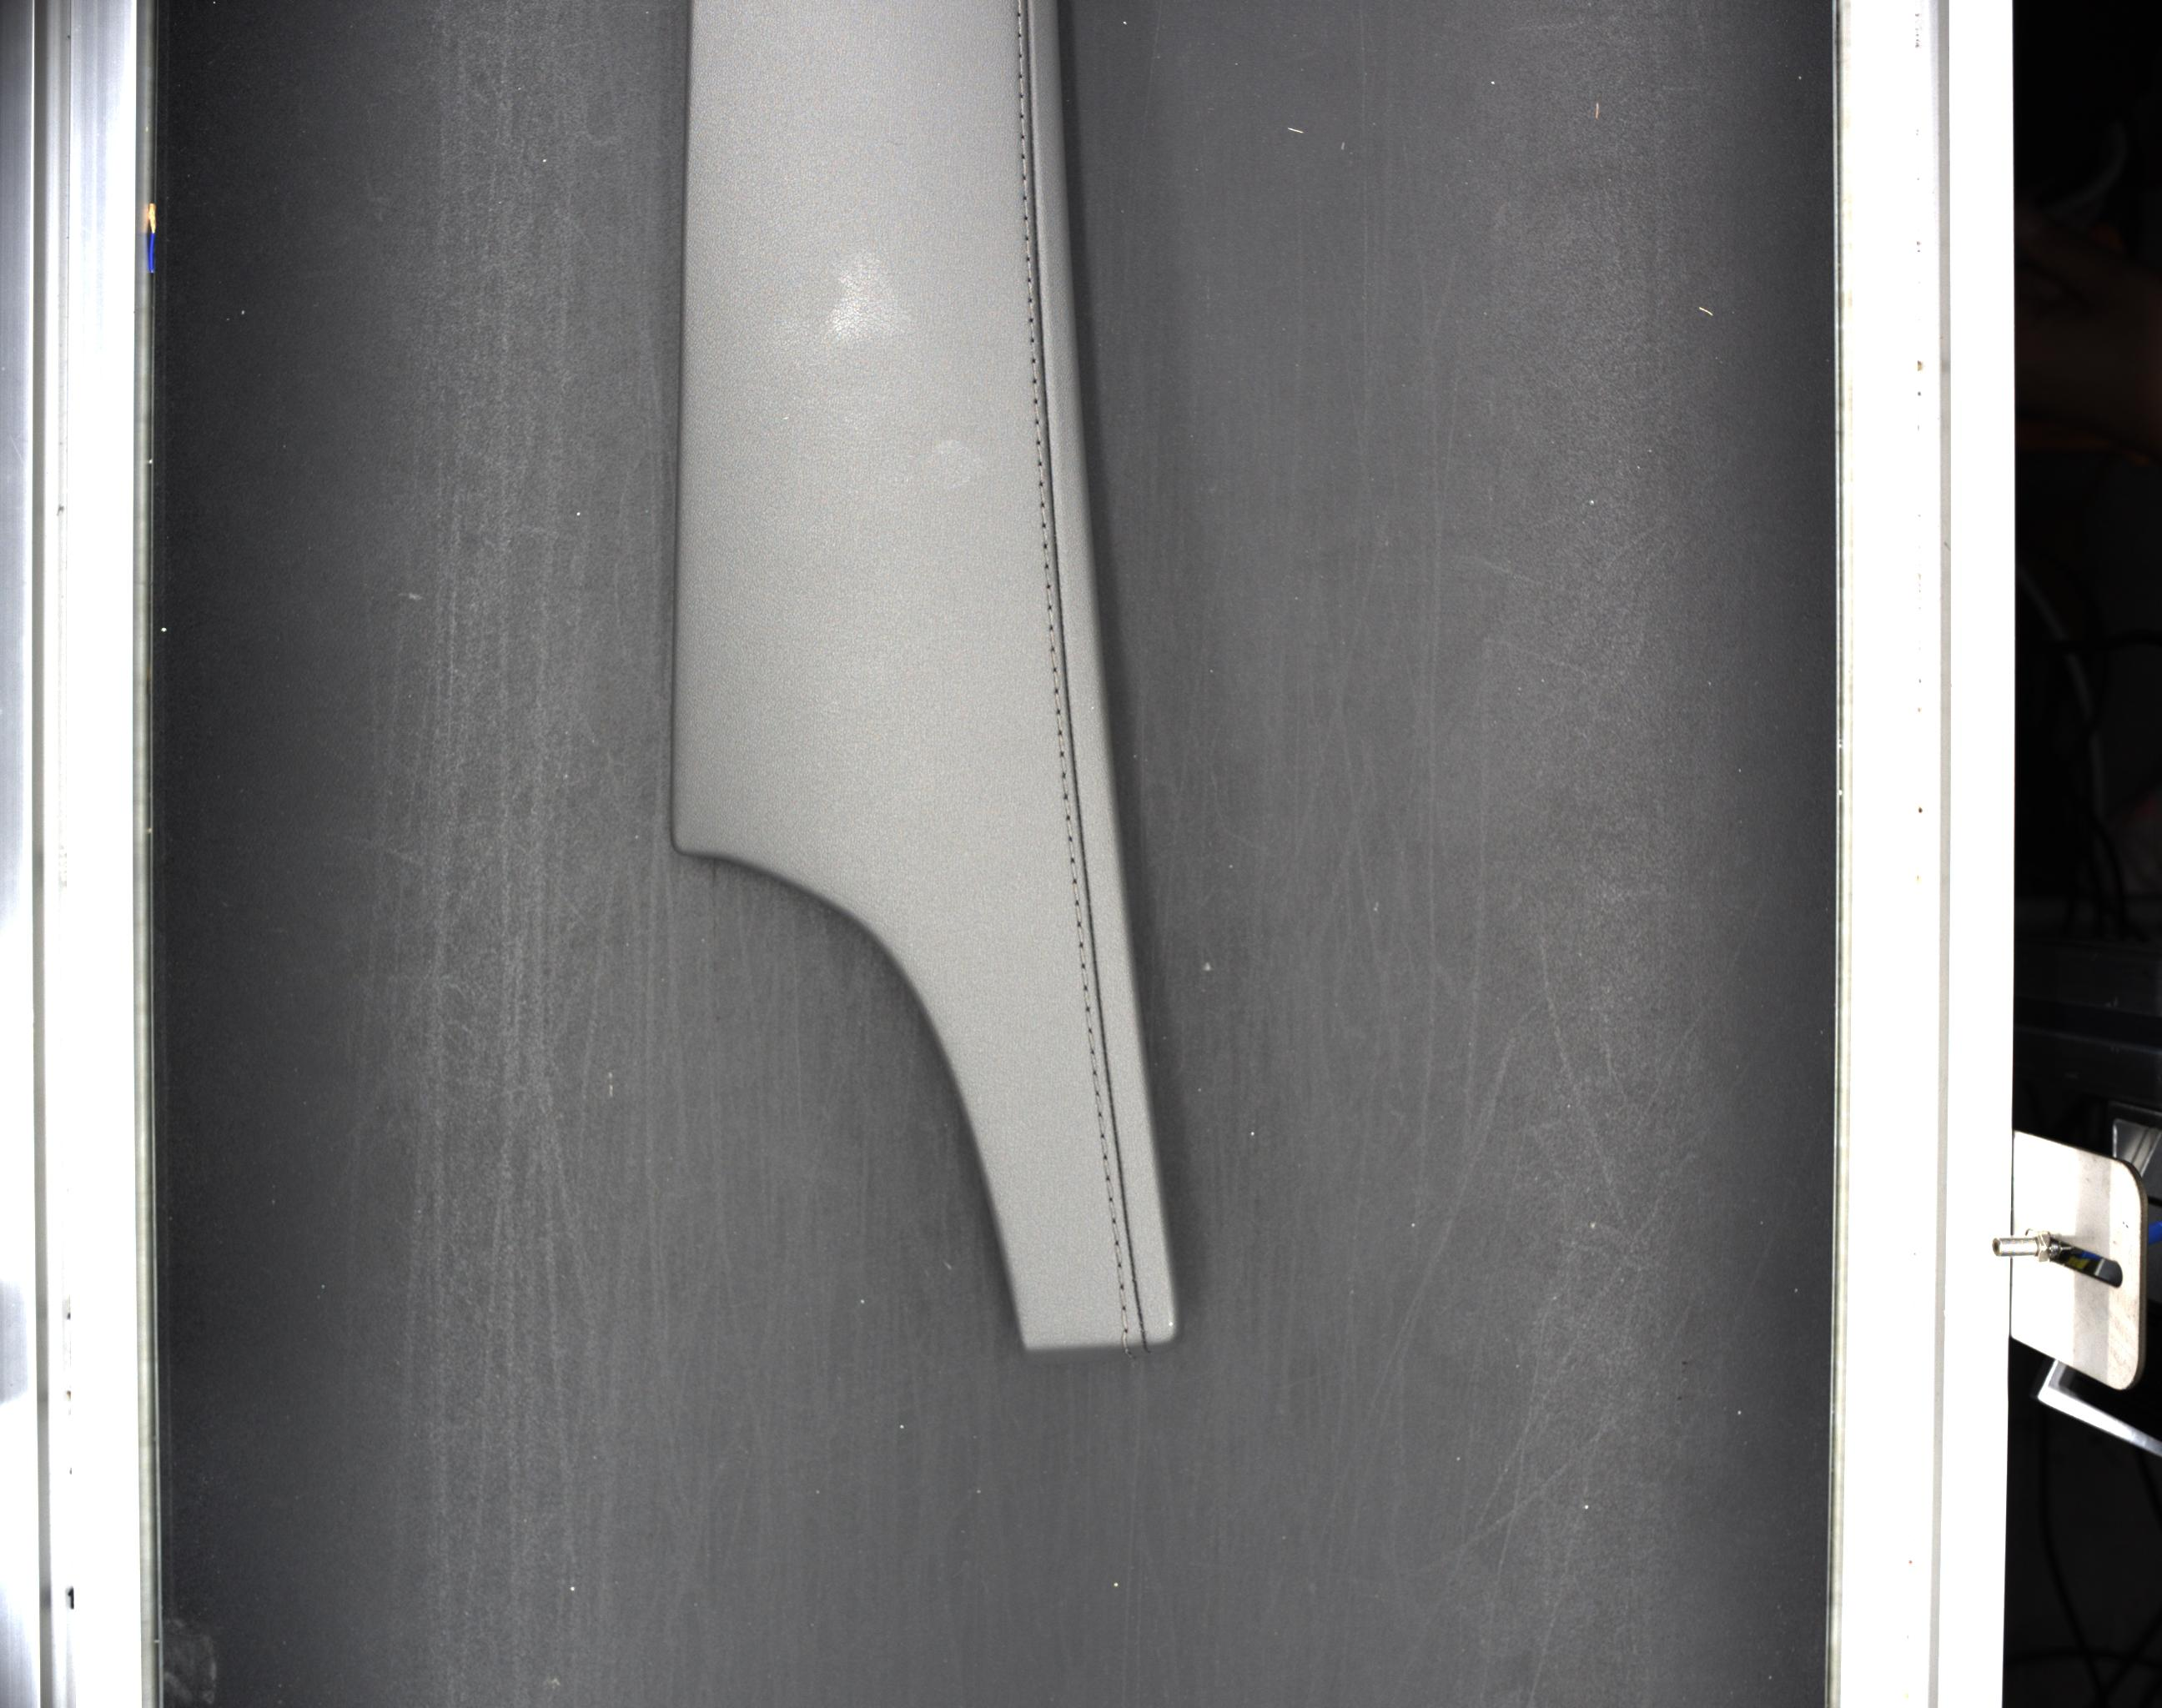vline: (1088, 1032, 1097, 1050), (1053, 693, 1062, 709), (1072, 885, 1081, 901), (1114, 1248, 1123, 1264), (1021, 200, 1028, 218), (1048, 632, 1056, 646), (1093, 1097, 1102, 1111), (1102, 1162, 1111, 1176), (1020, 118, 1027, 133), (1023, 219, 1030, 235), (1023, 240, 1030, 256), (1028, 302, 1035, 318), (1034, 404, 1041, 420), (1039, 486, 1046, 502), (1060, 757, 1067, 772), (1070, 862, 1077, 878), (1074, 906, 1081, 922), (1077, 927, 1085, 943), (1079, 948, 1086, 964), (1083, 990, 1090, 1006), (1092, 1055, 1099, 1071), (1121, 1313, 1128, 1329), (1065, 820, 1074, 832), (1020, 139, 1027, 153), (1021, 179, 1028, 193), (1030, 365, 1037, 379), (1042, 551, 1049, 565), (1049, 653, 1056, 667), (1053, 672, 1060, 686), (1062, 779, 1069, 793), (1063, 800, 1070, 815), (1081, 971, 1088, 985), (1085, 1011, 1092, 1025), (1109, 1204, 1116, 1218), (1113, 1224, 1118, 1241), (1016, 4, 1023, 16), (1018, 100, 1025, 112), (1069, 843, 1076, 855), (1106, 1183, 1113, 1195), (1021, 158, 1027, 174), (1035, 425, 1041, 441), (1037, 446, 1042, 462), (1041, 507, 1046, 523), (1093, 1074, 1099, 1090), (1100, 1137, 1106, 1153), (1016, 19, 1021, 33), (1018, 60, 1023, 74), (1025, 262, 1030, 276), (1030, 344, 1035, 358), (1037, 465, 1042, 479), (1042, 528, 1048, 542), (1046, 590, 1051, 604), (1044, 569, 1049, 583), (1048, 611, 1053, 625), (1056, 716, 1063, 727), (1116, 1271, 1123, 1281), (1120, 1290, 1125, 1304), (1018, 42, 1023, 54), (1027, 283, 1032, 295), (1028, 325, 1034, 337), (1032, 384, 1037, 397), (1099, 1116, 1102, 1134), (1018, 81, 1023, 91), (1058, 737, 1063, 748)
